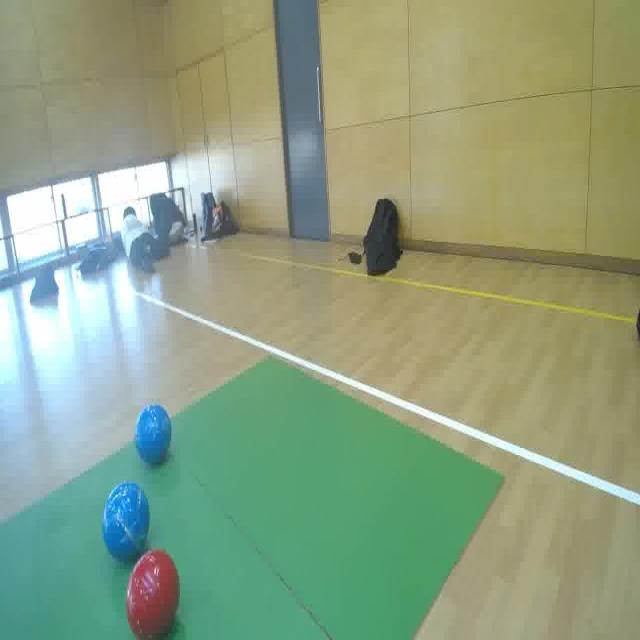blue_ball: (103, 480, 151, 568), (133, 400, 173, 469)
red_ball: (123, 546, 181, 640)
